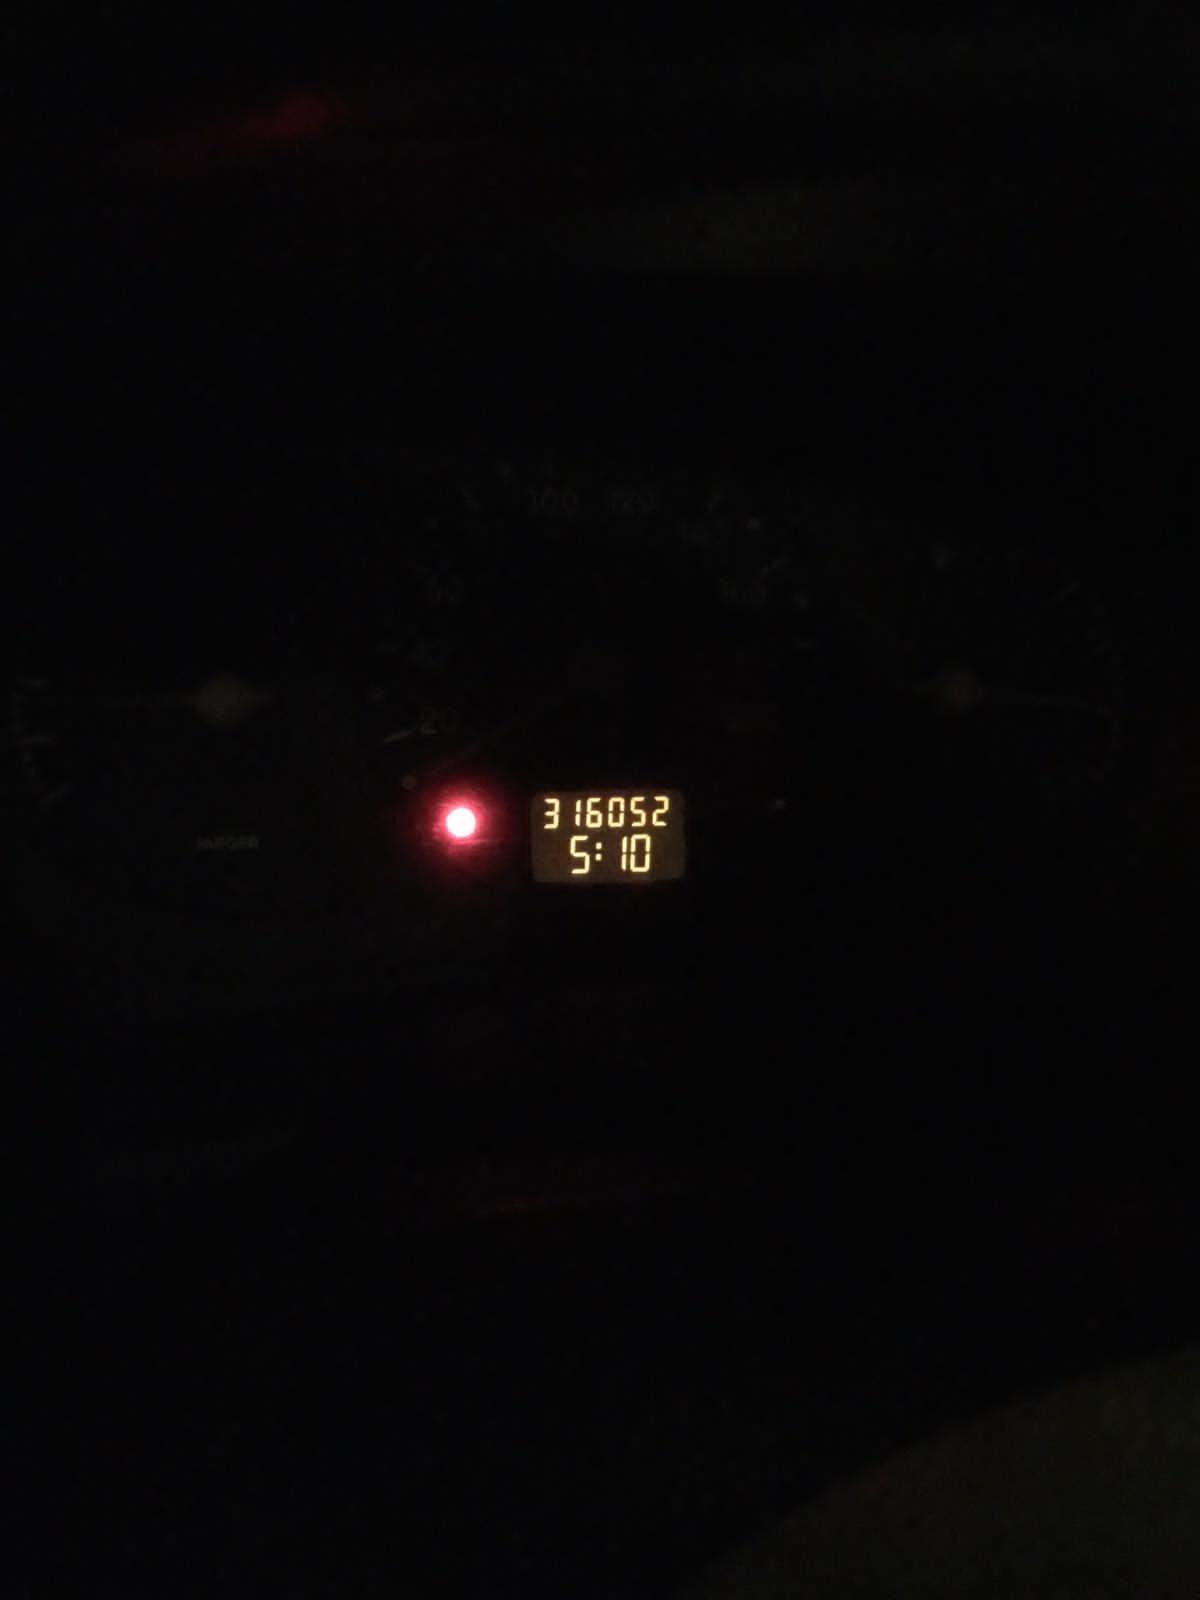0: (629, 833, 650, 873), (606, 796, 625, 828)
1: (620, 835, 628, 873), (574, 799, 582, 826)
2: (650, 795, 669, 826)
3: (542, 797, 558, 829)
5: (568, 835, 591, 874), (629, 796, 645, 826)
6: (585, 796, 603, 828)
X: (594, 842, 603, 862)
odometer: (528, 787, 689, 884)
